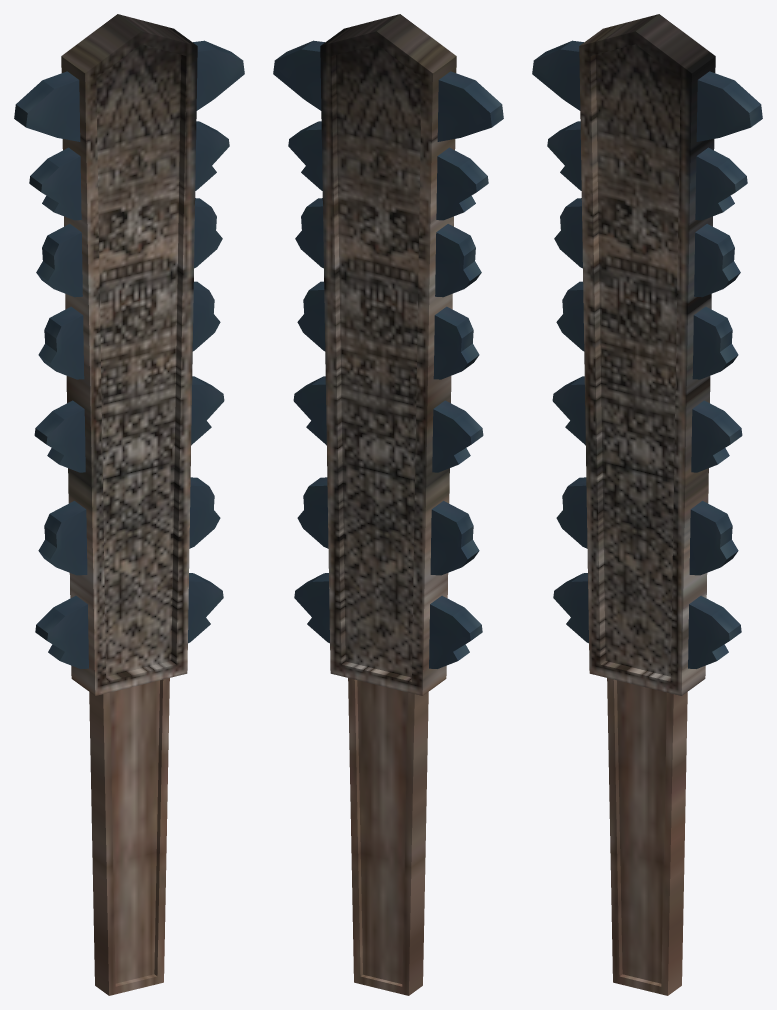
Rendered from ArmaAzteca.fbx.
3 views of the same model, side by side, from view 1: azimuth 30°, elevation 25°; view 2: azimuth 150°, elevation 25°; view 3: azimuth 330°, elevation 25° (orthographic).
Visible parts, largest first — view 1: Cube; view 2: Cube; view 3: Cube.
Boxes of the visible parts, x1,y1,x2,y2 form: Cube: [14, 14, 244, 995]; Cube: [273, 14, 503, 995]; Cube: [532, 14, 762, 995].
Bounding box in the file's own units: 297 × 1246 × 55.74.
Materials: 1 (1 with a texture image).
